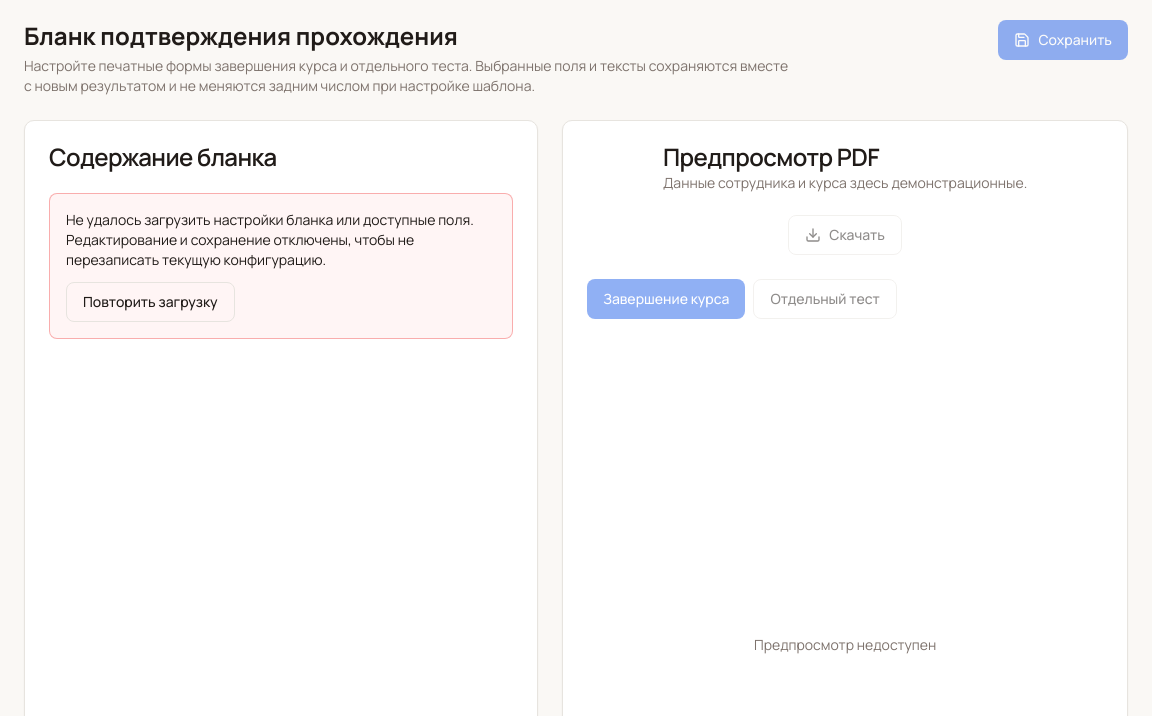
Test: training evidence form field builder › shows a retry state and keeps save disabled when catalog loading fails
The image size is (1152, 716).
Expected: the message shows "Редактирование и сохранение отключены", [66, 210, 474, 269]
Expected: the button "Сохранить" is disabled, [998, 20, 1128, 60]
Click the button "Повторить загрузку".
click(150, 302)  # box [66, 282, 235, 322]
(page scrolled)
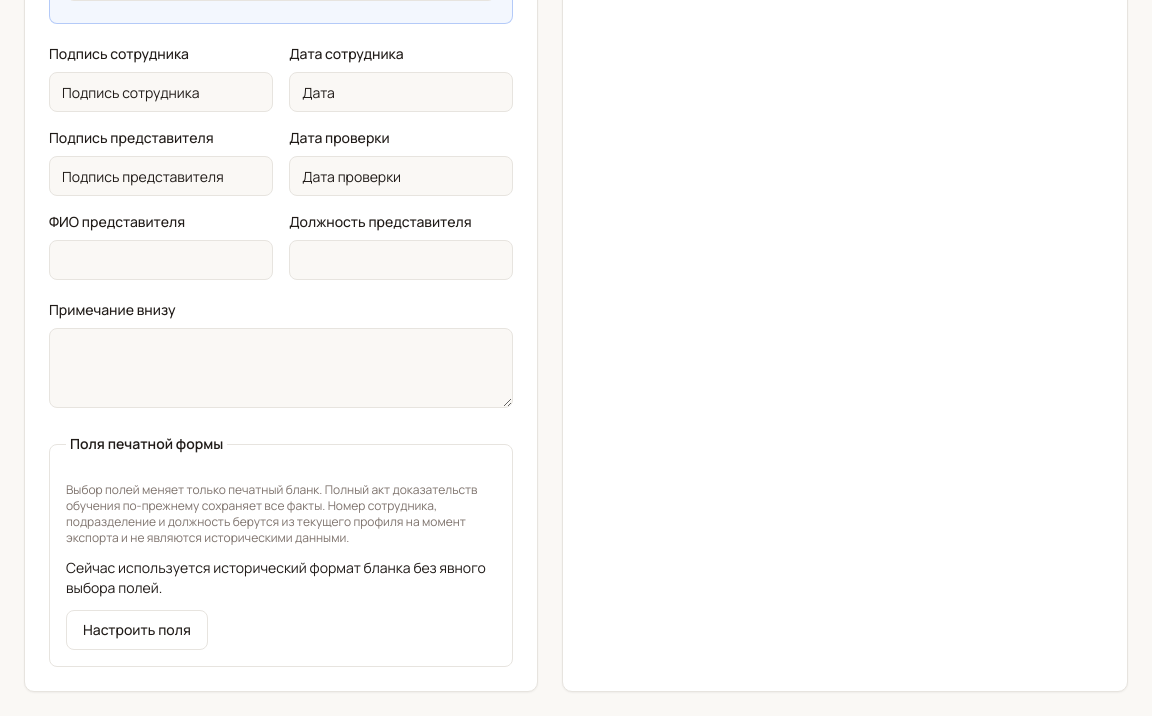
Result: the button "Настроить поля" is shown at [66, 610, 208, 650]
